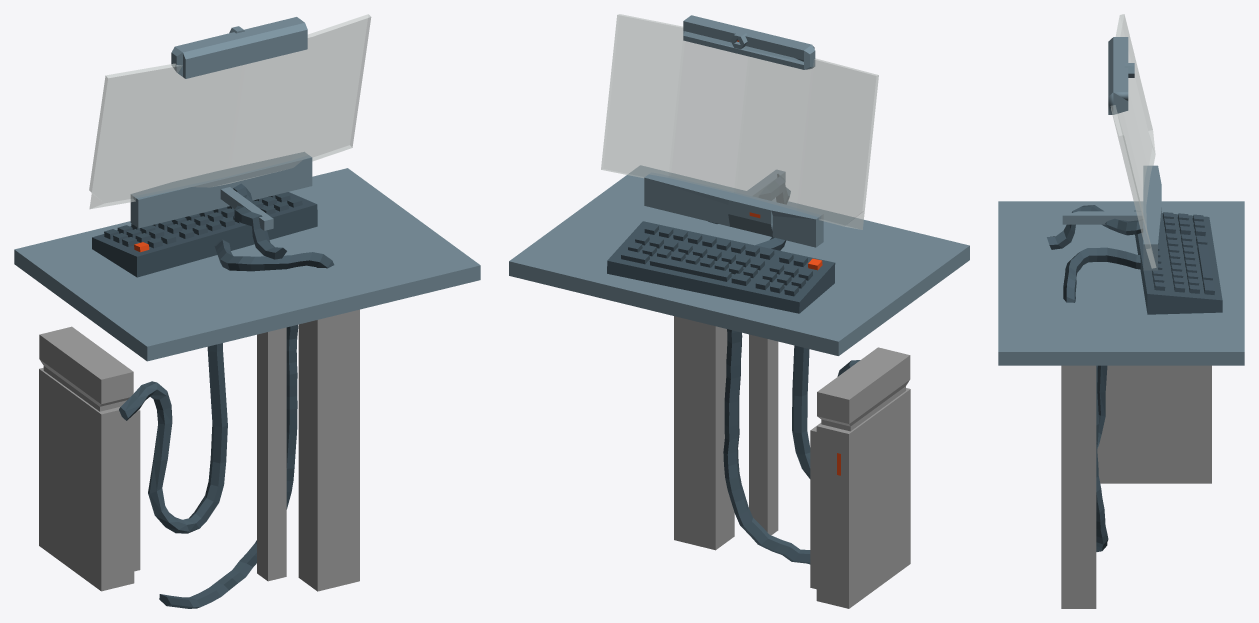
Rendered from Scifi Wall Mounted Computer.fbx.
3 renders of one model, left to right at view 1: azimuth 30°, elevation 25°; view 2: azimuth 150°, elevation 25°; view 3: azimuth 270°, elevation 25°, orthographic. The views are drawn at different scales.
Visible parts, largest first — view 1: Scifi Wall Mounted Computer; view 2: Scifi Wall Mounted Computer; view 3: Scifi Wall Mounted Computer.
Part boxes in pixels (x1,y1,x2,y2): Scifi Wall Mounted Computer: [14, 14, 480, 608]; Scifi Wall Mounted Computer: [509, 14, 969, 608]; Scifi Wall Mounted Computer: [998, 14, 1244, 608].
Bounding box in the file's own units: 0.71 × 1.11 × 0.49.
